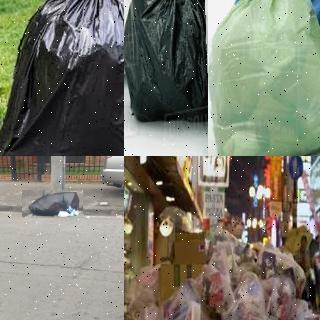Garbage: (0, 0, 124, 156), (206, 0, 320, 156), (124, 0, 234, 126), (124, 0, 182, 78), (198, 0, 314, 32), (200, 234, 236, 308), (160, 277, 218, 320), (225, 272, 276, 320), (23, 190, 85, 217)
